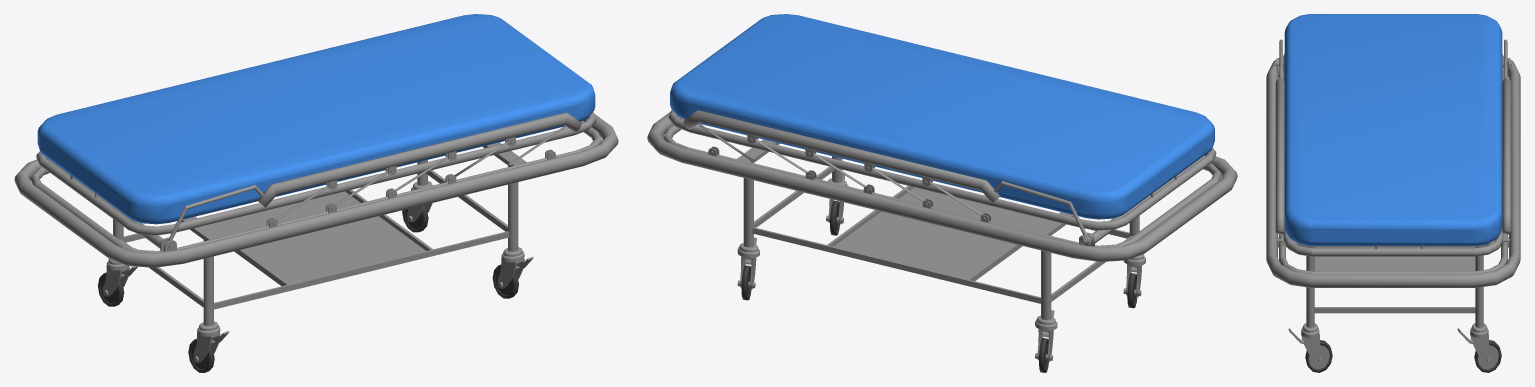
The model's file is Stretcher.FBX.
3 renders of one model, left to right at view 1: azimuth 30°, elevation 25°; view 2: azimuth 150°, elevation 25°; view 3: azimuth 270°, elevation 25°, orthographic. The views are drawn at different scales.
Parts seen in each view (by area): view 1: up, Layer:3D_MESH, Tires; view 2: up, Layer:3D_MESH, Tires; view 3: up, Layer:3D_MESH, Tires.
Part boxes in pixels (x1=…): up: x1=37, y1=14, x2=595, y2=224; Layer:3D_MESH: x1=14, y1=112, x2=618, y2=362; Tires: x1=98, y1=205, x2=518, y2=372; up: x1=670, y1=14, x2=1214, y2=219; Layer:3D_MESH: x1=647, y1=110, x2=1237, y2=361; Tires: x1=741, y1=200, x2=1137, y2=372; up: x1=1284, y1=14, x2=1502, y2=245; Layer:3D_MESH: x1=1266, y1=39, x2=1520, y2=369; Tires: x1=1305, y1=340, x2=1501, y2=372.
Bounding box in the file's own units: 1910 × 720 × 888.
